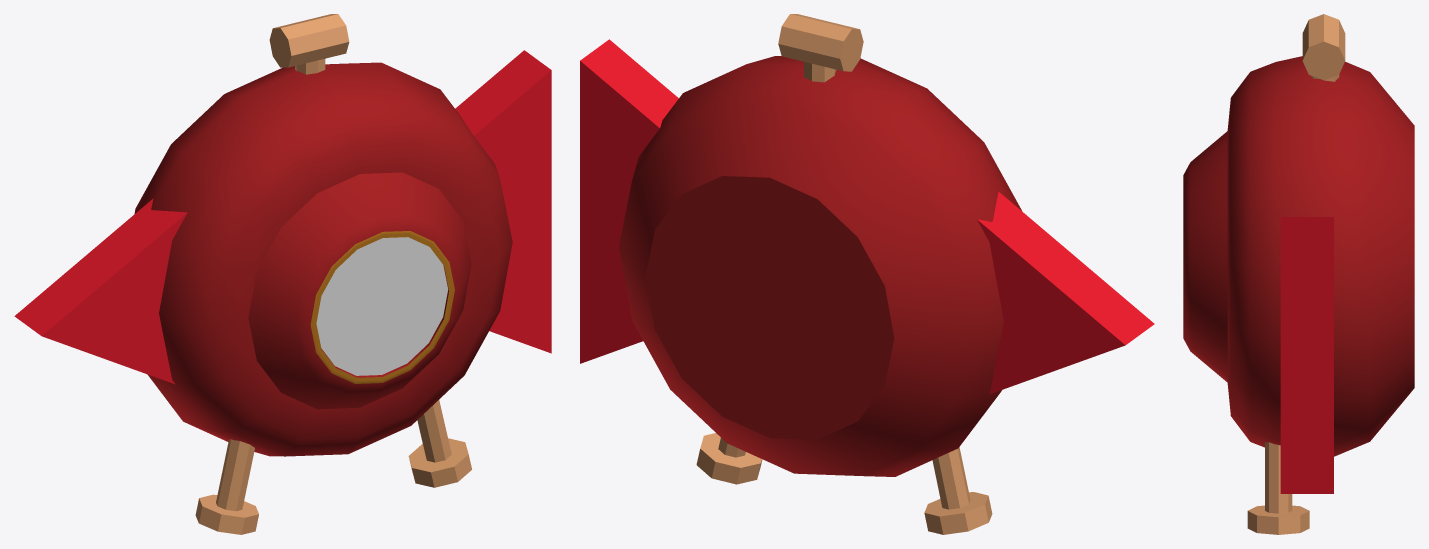
File: CLOCK-2.fbx
3 views of the same model, side by side, from view 1: azimuth 30°, elevation 25°; view 2: azimuth 150°, elevation 25°; view 3: azimuth 270°, elevation 25° (orthographic). The views are drawn at different scales.
Parts seen in each view (by area): view 1: CLOCK - B'; view 2: CLOCK - B'; view 3: CLOCK - B'.
Boxes of the visible parts, x1,y1,x2,y2 form: CLOCK - B': [14, 14, 551, 534]; CLOCK - B': [580, 14, 1154, 534]; CLOCK - B': [1183, 14, 1414, 534].
Size of the model in its own units: 0.3127 by 0.2728 by 0.1259.
